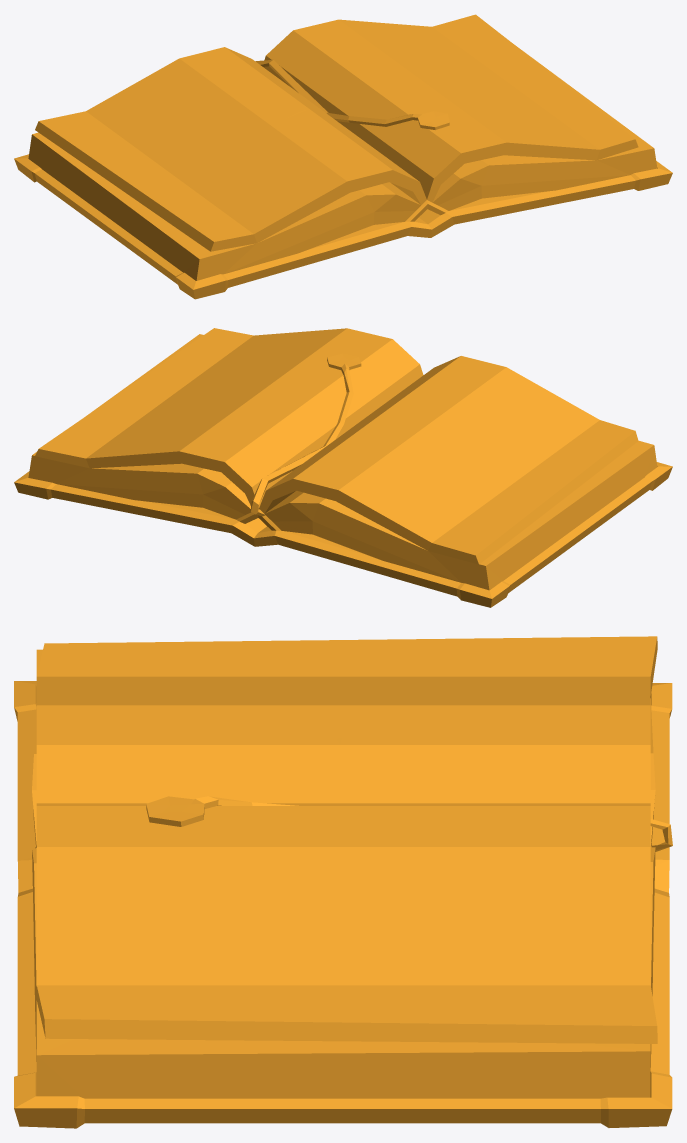
The model's file is SM_Book_Alchemy_Open.fbx.
3 renders of one model, top to bottom at view 1: azimuth 30°, elevation 25°; view 2: azimuth 150°, elevation 25°; view 3: azimuth 270°, elevation 25°, orthographic. The views are drawn at different scales.
Parts seen in each view (by area): view 1: book-alchemy-open; view 2: book-alchemy-open; view 3: book-alchemy-open.
Boxes of the visible parts, x1,y1,x2,y2 form: book-alchemy-open: [14, 14, 672, 299]; book-alchemy-open: [14, 328, 672, 607]; book-alchemy-open: [14, 636, 672, 1128].
Size of the model in its own units: 0.8284 by 0.141 by 0.5397.
